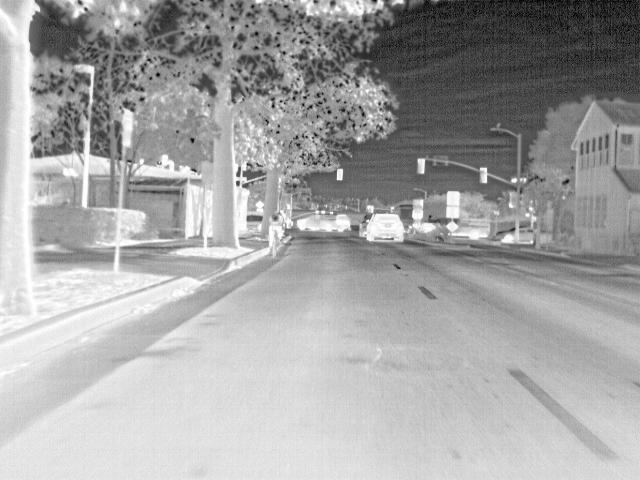car: (364, 211, 407, 244), (296, 210, 336, 232), (357, 212, 373, 237), (493, 227, 514, 243), (246, 211, 268, 225), (334, 214, 352, 230), (516, 227, 534, 243)
person: (272, 207, 287, 234)
